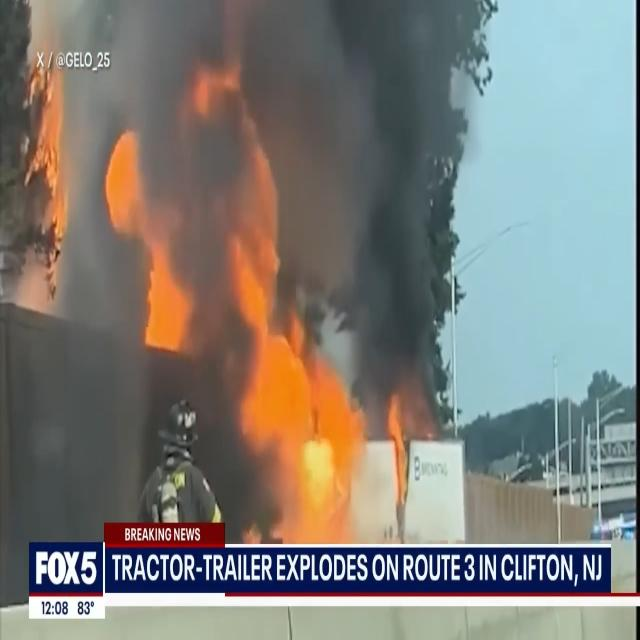fire: (199, 61, 297, 337), (245, 353, 357, 544), (100, 138, 199, 353), (22, 48, 65, 232)
